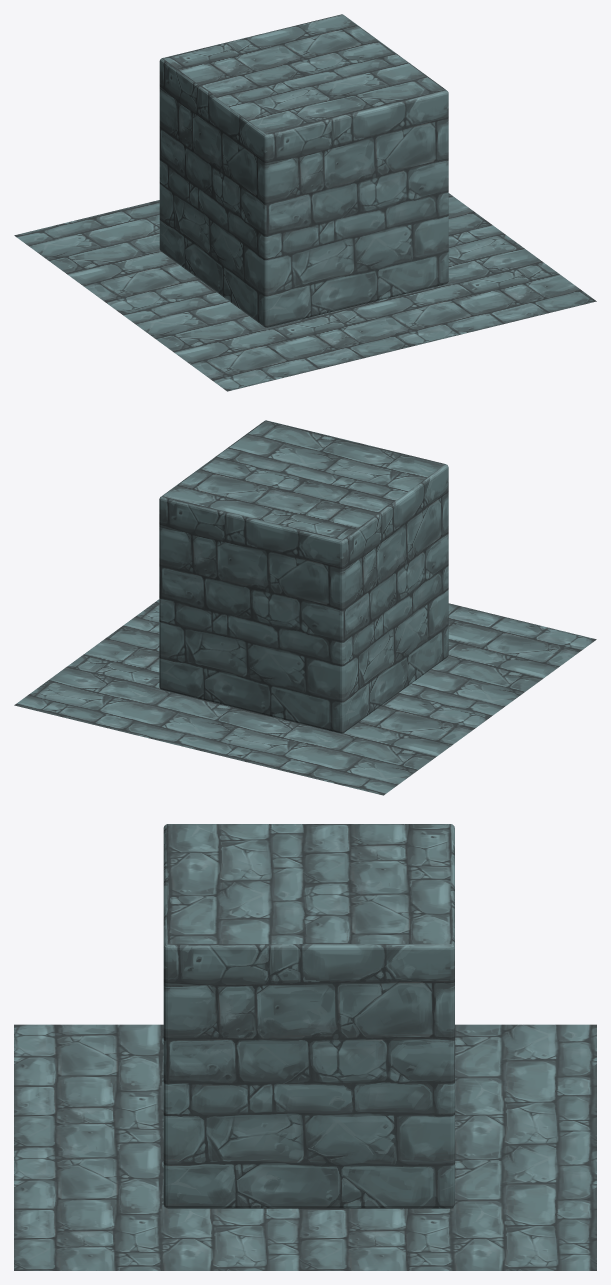
The model's file is bricktexture1.fbx.
3 renders of one model, top to bottom at view 1: azimuth 30°, elevation 25°; view 2: azimuth 150°, elevation 25°; view 3: azimuth 270°, elevation 25°, orthographic. The views are drawn at different scales.
Visible parts, largest first — view 1: Cube, Plane; view 2: Cube, Plane; view 3: Cube, Plane.
Boxes of the visible parts, <box> form: Cube: <box>159,14,448,327</box>; Plane: <box>14,193,596,391</box>; Cube: <box>159,420,448,733</box>; Plane: <box>14,599,596,795</box>; Cube: <box>163,824,454,1208</box>; Plane: <box>14,1024,596,1270</box>.
Size of the model in its own units: 400 by 200 by 400.
